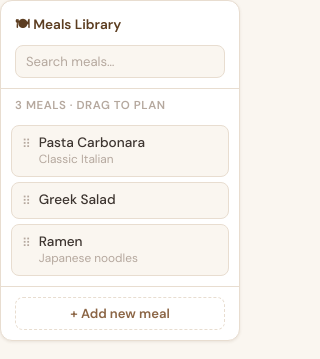
Test case: MealsSidebar › filters meals by search query (case-insensitive)
This screenshot has width=320, height=359.
Type "pasta" into the field with placeholder "Search meals…".
click(120, 62); type("pasta")  # box [15, 45, 225, 78]
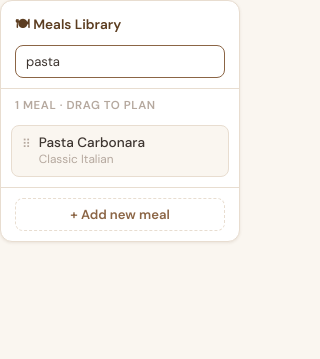
Expected: the text "Pasta Carbonara" is shown, [39, 134, 145, 151]
Now the button "Greek Salad" is gone
Now the button "Ramen" is gone
